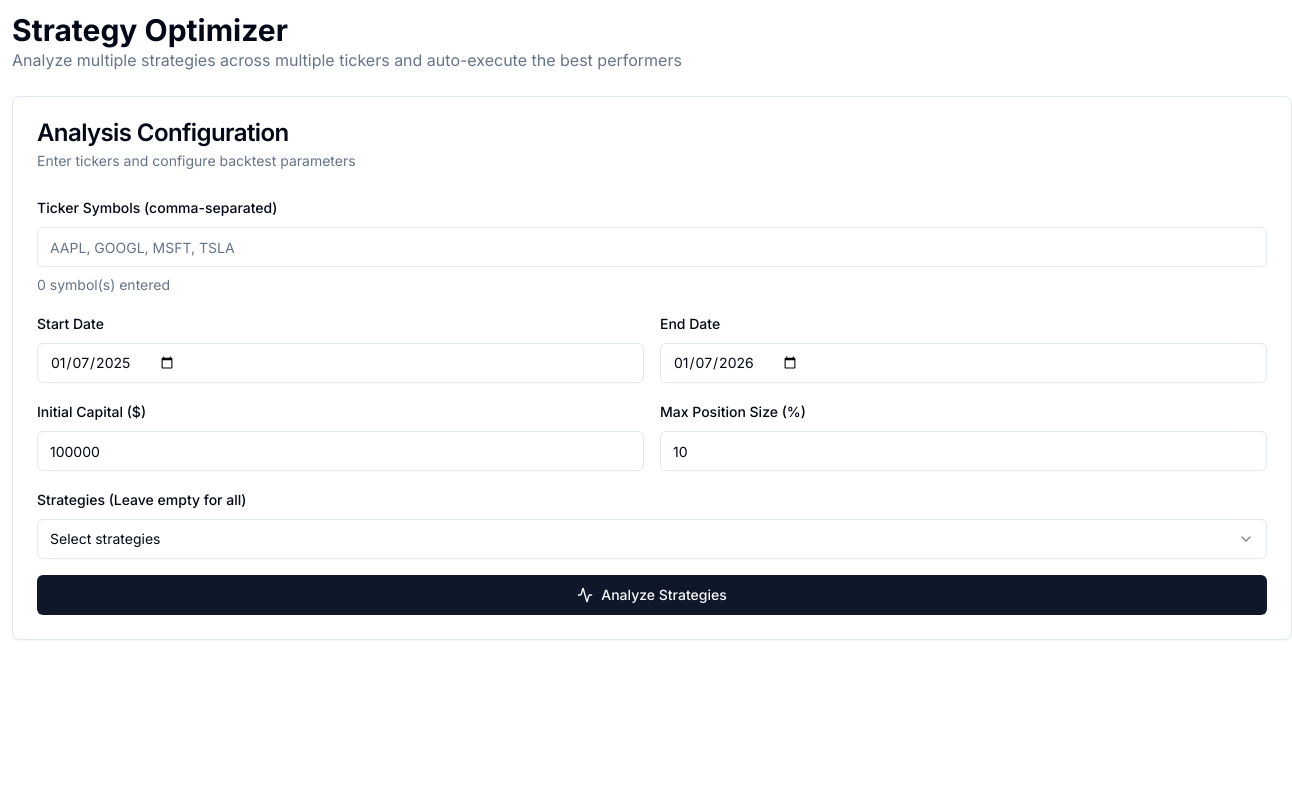
Scenario: OptimizerPage › Analysis Submission › shows error when dates are not selected
Type "AAPL" into the field labelled "Ticker Symbols (comma-separated)". click: {"x": 652, "y": 247}
box: [37,227,1267,267]
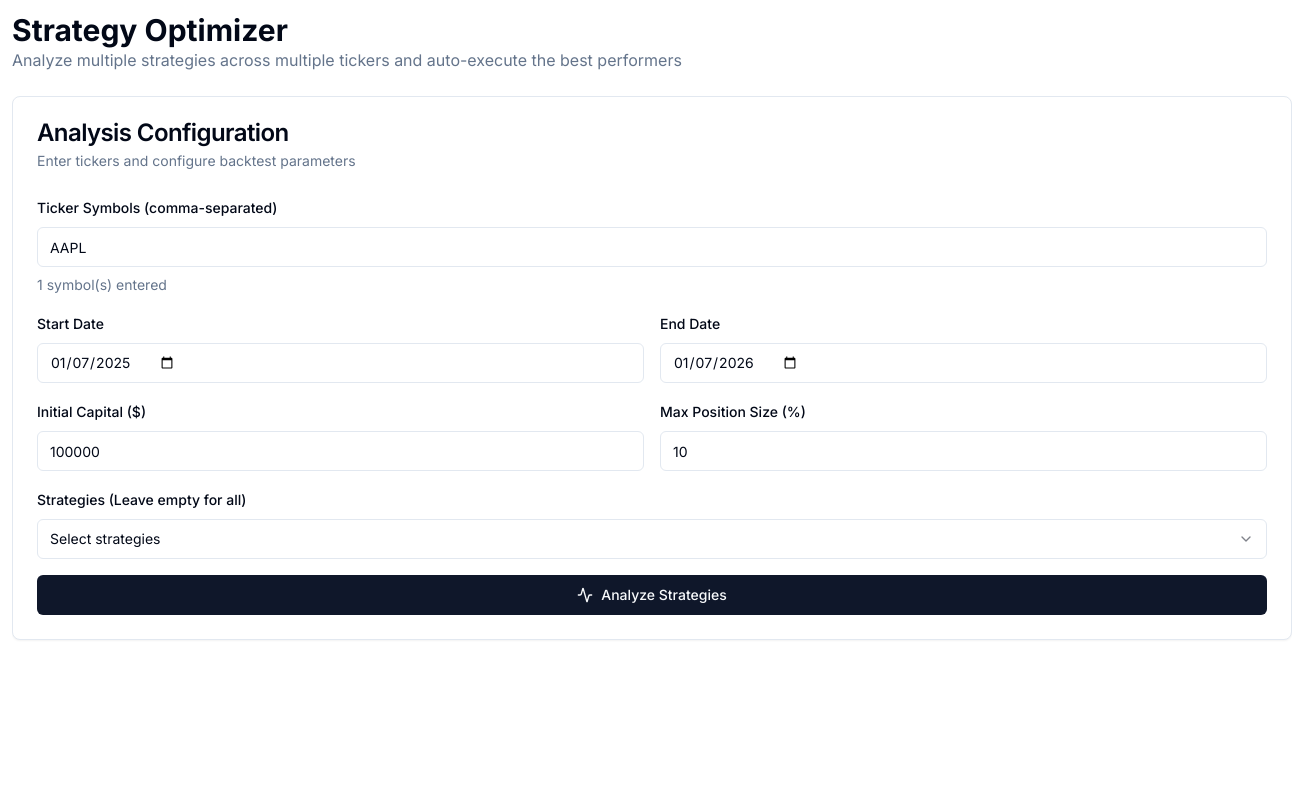
Clear the date field labelled "Start Date". click: {"x": 340, "y": 363}
box: [37,343,644,383]
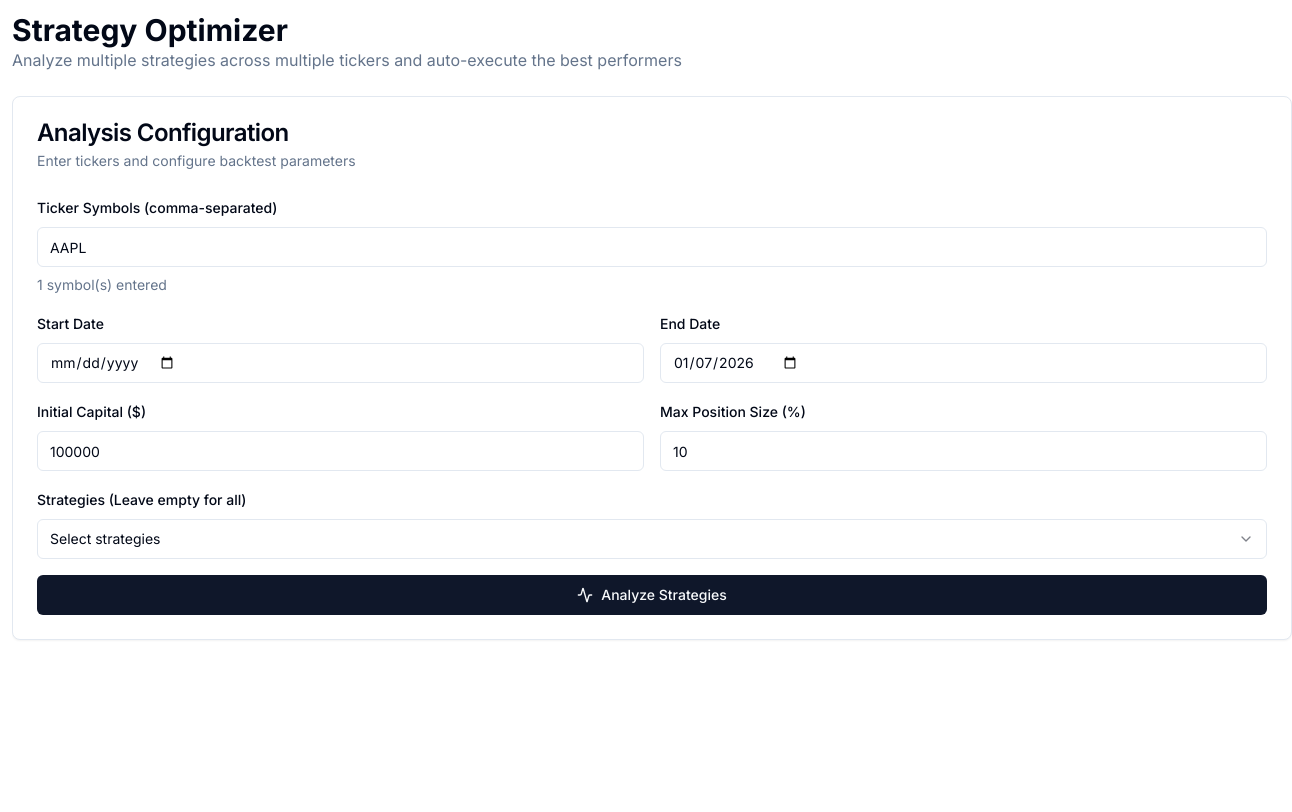
Clear the date field labelled "End Date". click: {"x": 964, "y": 363}
box: [660,343,1267,383]
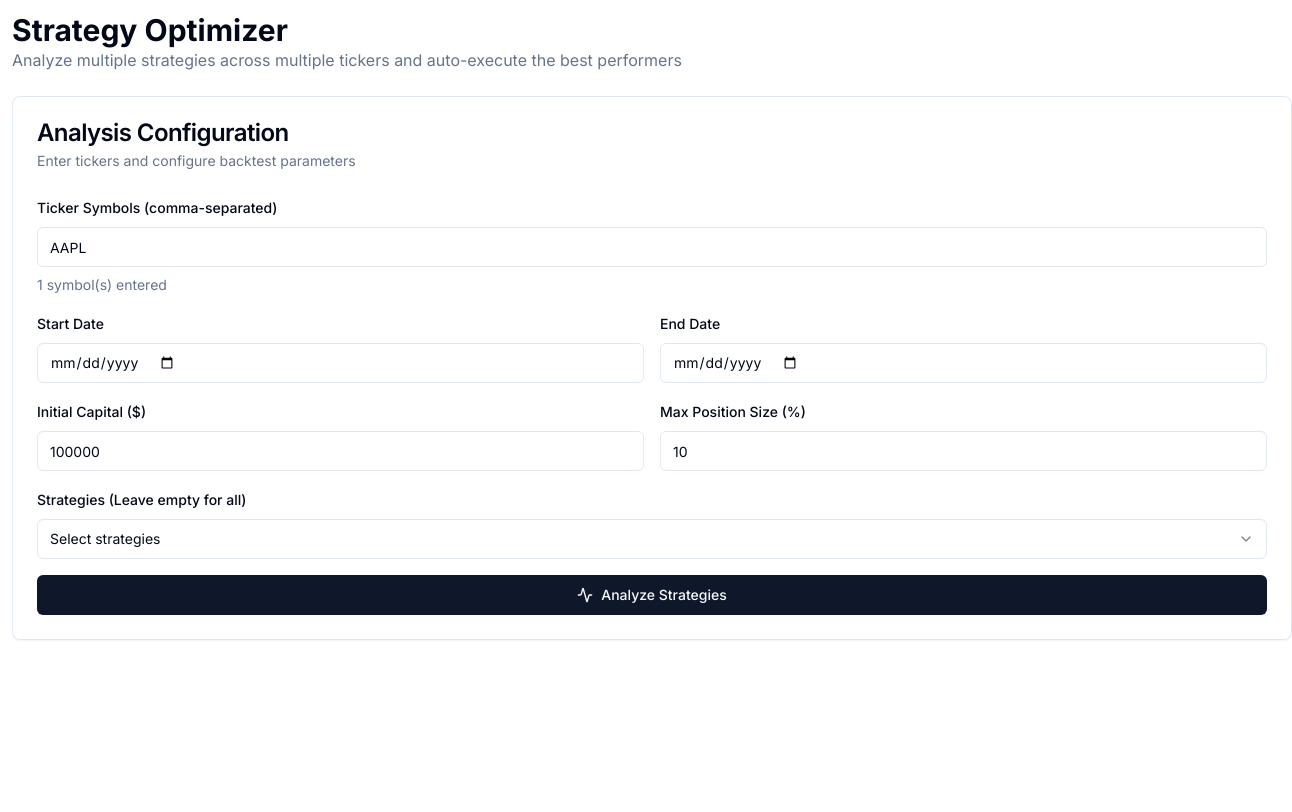
Click the button "Analyze Strategies". click: {"x": 652, "y": 595}
box: [37,575,1267,615]
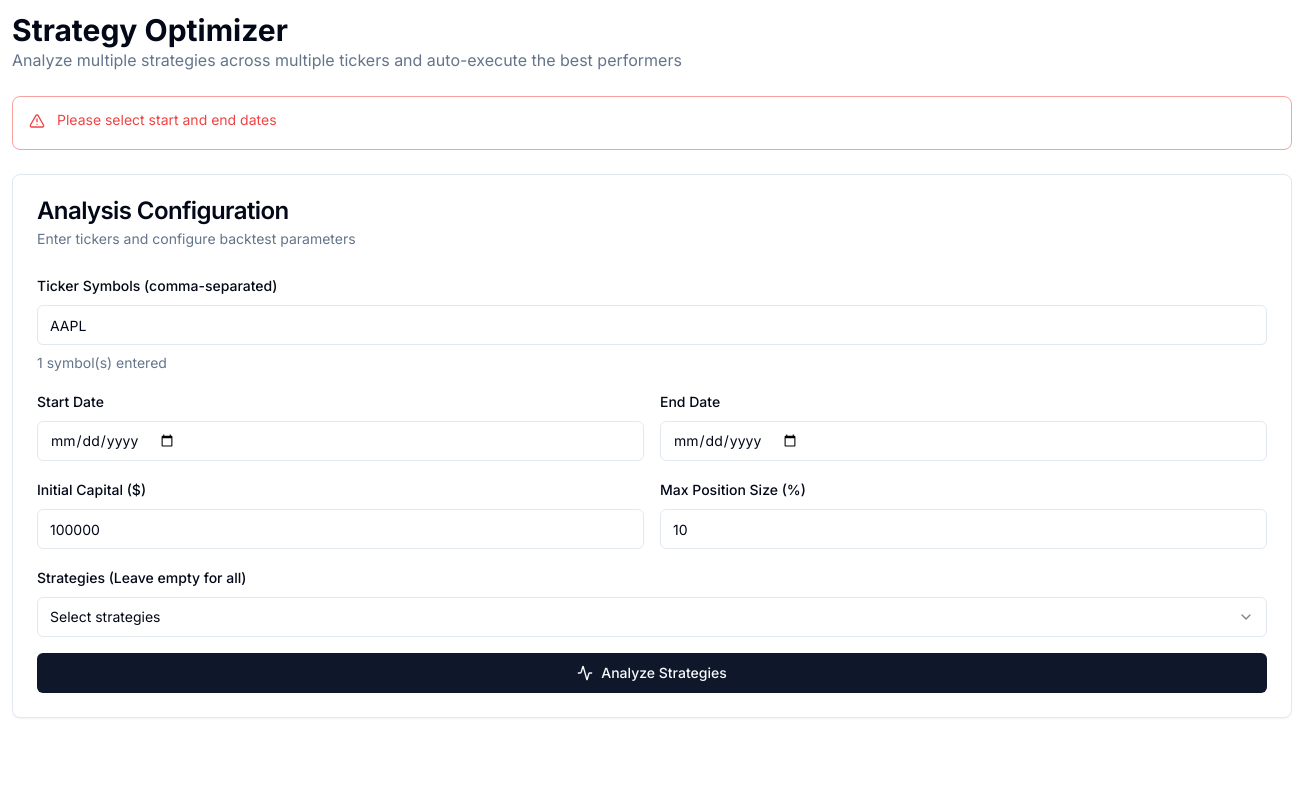
Expected: the text "Please select start and end dates" is shown, [57,111,276,128]
